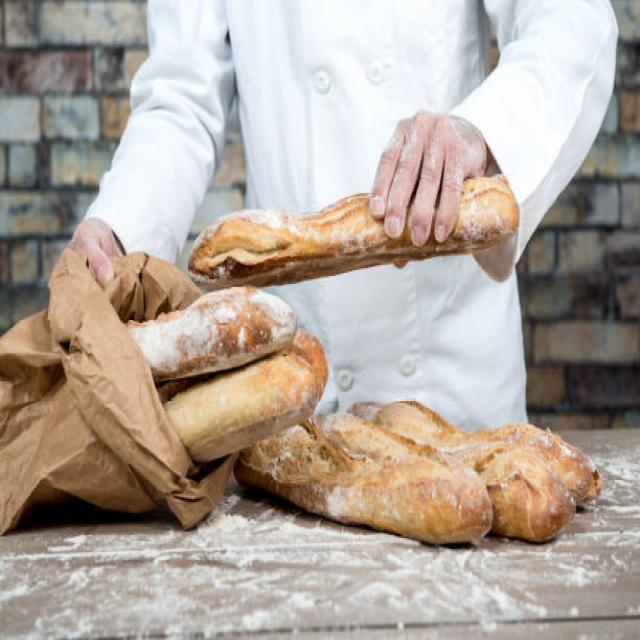Baguette: (188, 176, 519, 289), (238, 414, 490, 540), (351, 400, 599, 504), (164, 353, 322, 458), (127, 287, 297, 380), (454, 438, 573, 541)
